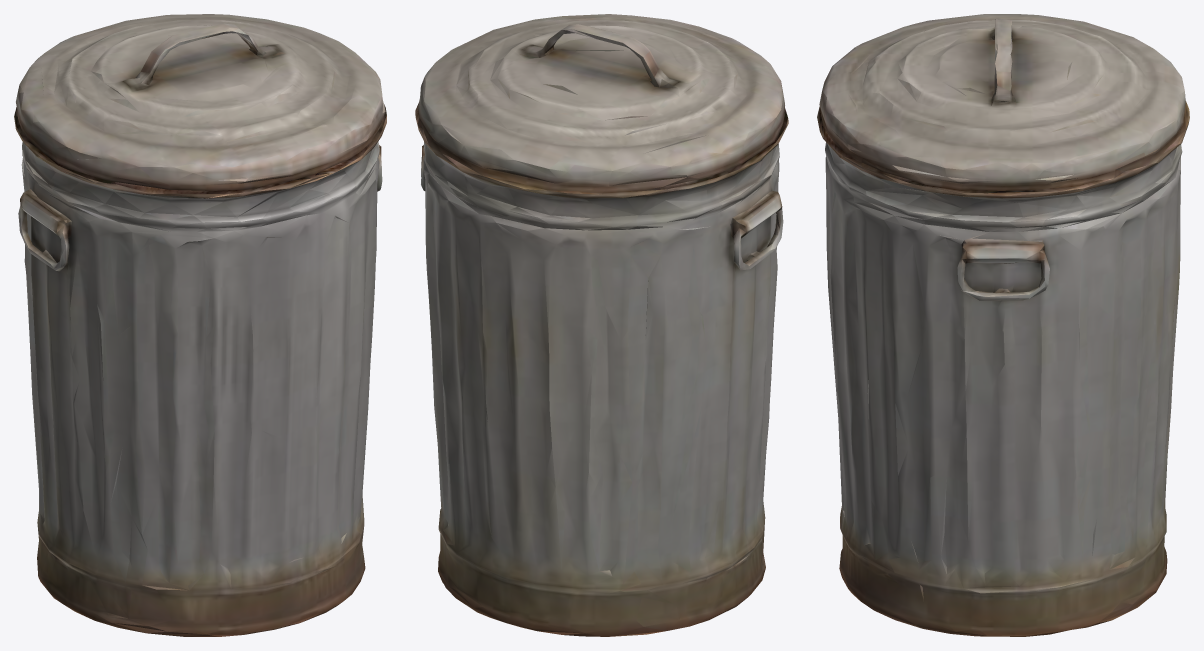
The model's file is street_trash_can_classic.glb.
3 renders of one model, left to right at view 1: azimuth 30°, elevation 25°; view 2: azimuth 150°, elevation 25°; view 3: azimuth 270°, elevation 25°, orthographic.
Parts seen in each view (by area): view 1: turn; view 2: turn; view 3: turn.
Part boxes in pixels (x1=…): turn: x1=14, y1=14, x2=386, y2=636; turn: x1=415, y1=14, x2=788, y2=636; turn: x1=817, y1=14, x2=1189, y2=636.
Bounding box in the file's own units: 0.5767 × 0.9 × 0.5661.
Materials: 1 (1 with a texture image).
